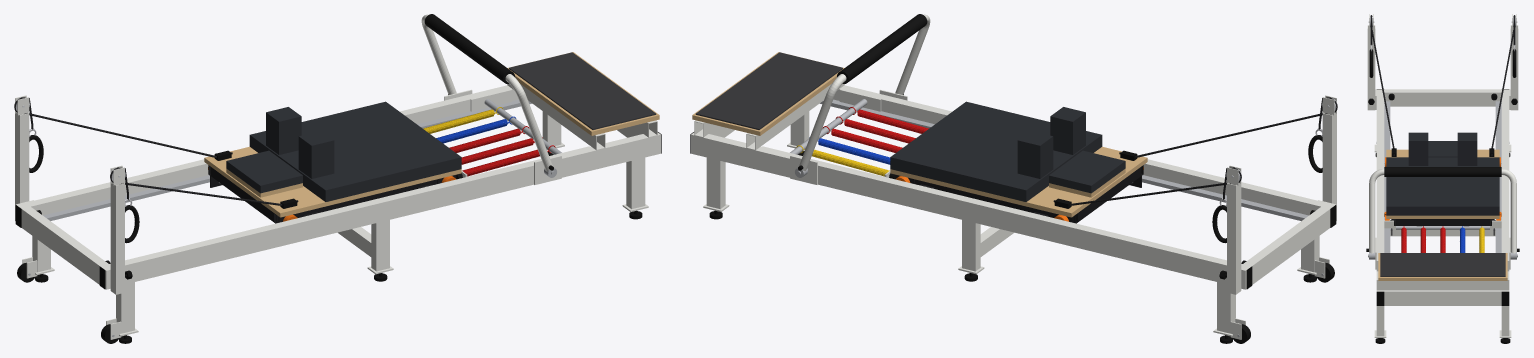
Rendered from r1-industriale.glb.
3 views of the same model, side by side, from view 1: azimuth 30°, elevation 25°; view 2: azimuth 150°, elevation 25°; view 3: azimuth 270°, elevation 25° (orthographic). The views are drawn at different scales.
Visible parts, largest first — view 1: A01_Longherone_SX_80x40x3_L2450, C01_Materassino_carrello_600x580x50, G02_Tappetino_gomma_antiscivolo_5mm, A01_Longherone_DX_80x40x3_L2450, B05_Pianale_multistrato_betulla_18mm_800x580, A03_Traversa_testa_80x40x3_L600, C02_Cuscino_poggiatesta, A02_Binario_angolare_30x30x3_DX, A09_Montante_corde_40x40x2_SX, E01_Footbar_tubo_D32x2,5_curvato, C03_Poggiaspalle_SX, C03_Poggiaspalle_DX (+21 smaller); view 2: A01_Longherone_DX_80x40x3_L2450, C01_Materassino_carrello_600x580x50, G02_Tappetino_gomma_antiscivolo_5mm, A01_Longherone_SX_80x40x3_L2450, B05_Pianale_multistrato_betulla_18mm_800x580, A03_Traversa_testa_80x40x3_L600, C02_Cuscino_poggiatesta, A02_Binario_angolare_30x30x3_SX, A09_Montante_corde_40x40x2_DX, E01_Footbar_tubo_D32x2,5_curvato, C03_Poggiaspalle_DX, C03_Poggiaspalle_SX (+21 smaller); view 3: C01_Materassino_carrello_600x580x50, G02_Tappetino_gomma_antiscivolo_5mm, A03_Traversa_testa_80x40x3_L600, A04_Traversa_piedi_80x40x3_L600, A01_Longherone_SX_80x40x3_L2450, A01_Longherone_DX_80x40x3_L2450, A11_Supporto_pedana_60x40x2_L680, E01_Footbar_tubo_D32x2,5_curvato, E04_Imbottitura_footbar_NBR_D52, B05_Pianale_multistrato_betulla_18mm_800x580, C03_Poggiaspalle_SX, C03_Poggiaspalle_DX (+22 smaller).
Boxes of the visible parts, bbox=[...] form: A01_Longherone_SX_80x40x3_L2450: bbox=[100, 132, 660, 284]; C01_Materassino_carrello_600x580x50: bbox=[249, 101, 461, 201]; G02_Tappetino_gomma_antiscivolo_5mm: bbox=[509, 52, 656, 129]; A01_Longherone_DX_80x40x3_L2450: bbox=[17, 85, 518, 215]; B05_Pianale_multistrato_betulla_18mm_800x580: bbox=[204, 146, 461, 217]; A03_Traversa_testa_80x40x3_L600: bbox=[21, 206, 108, 284]; C02_Cuscino_poggiatesta: bbox=[226, 150, 302, 193]; A02_Binario_angolare_30x30x3_DX: bbox=[43, 99, 531, 220]; A09_Montante_corde_40x40x2_SX: bbox=[110, 182, 124, 294]; E01_Footbar_tubo_D32x2,5_curvato: bbox=[421, 14, 552, 171]; C03_Poggiaspalle_SX: bbox=[298, 131, 334, 178]; C03_Poggiaspalle_DX: bbox=[266, 107, 301, 154]; A01_Longherone_DX_80x40x3_L2450: bbox=[691, 132, 1251, 284]; C01_Materassino_carrello_600x580x50: bbox=[890, 101, 1102, 201]; G02_Tappetino_gomma_antiscivolo_5mm: bbox=[695, 52, 842, 129]; A01_Longherone_SX_80x40x3_L2450: bbox=[833, 85, 1334, 215]; B05_Pianale_multistrato_betulla_18mm_800x580: bbox=[890, 146, 1147, 217]; A03_Traversa_testa_80x40x3_L600: bbox=[1243, 206, 1330, 284]; C02_Cuscino_poggiatesta: bbox=[1049, 150, 1125, 193]; A02_Binario_angolare_30x30x3_SX: bbox=[820, 99, 1308, 220]; A09_Montante_corde_40x40x2_DX: bbox=[1227, 182, 1241, 294]; E01_Footbar_tubo_D32x2,5_curvato: bbox=[799, 14, 930, 171]; C03_Poggiaspalle_DX: bbox=[1017, 131, 1053, 178]; C03_Poggiaspalle_SX: bbox=[1050, 107, 1085, 154]; C01_Materassino_carrello_600x580x50: bbox=[1386, 157, 1499, 215]; G02_Tappetino_gomma_antiscivolo_5mm: bbox=[1380, 253, 1505, 276]; A03_Traversa_testa_80x40x3_L600: bbox=[1384, 89, 1501, 106]; A04_Traversa_piedi_80x40x3_L600: bbox=[1384, 290, 1501, 305]; A01_Longherone_SX_80x40x3_L2450: bbox=[1376, 89, 1384, 291]; A01_Longherone_DX_80x40x3_L2450: bbox=[1501, 89, 1509, 291]; A11_Supporto_pedana_60x40x2_L680: bbox=[1376, 276, 1509, 290]; E01_Footbar_tubo_D32x2,5_curvato: bbox=[1369, 169, 1516, 253]; E04_Imbottitura_footbar_NBR_D52: bbox=[1384, 167, 1501, 176]; B05_Pianale_multistrato_betulla_18mm_800x580: bbox=[1386, 149, 1499, 218]; C03_Poggiaspalle_SX: bbox=[1408, 132, 1428, 165]; C03_Poggiaspalle_DX: bbox=[1457, 132, 1477, 165].
Size of the model in its own units: 2.46 by 0.7638 by 0.784.
